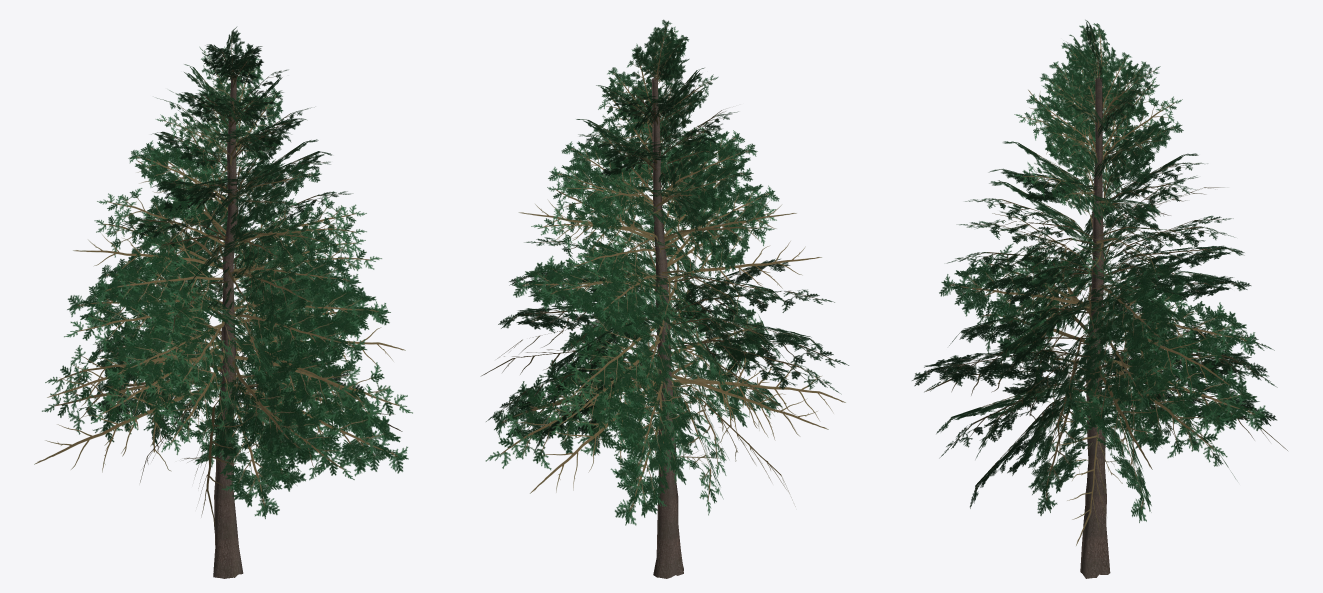
The picture shows the model from 3 angles, left to right: view 1: azimuth 30°, elevation 25°; view 2: azimuth 150°, elevation 25°; view 3: azimuth 270°, elevation 25°; orthographic projection.
Visible parts, largest first — view 1: Pine_Tree_Lowpoly__2_Pine_Branches_06_Mat_0; view 2: Pine_Tree_Lowpoly__2_Pine_Branches_06_Mat_0; view 3: Pine_Tree_Lowpoly__2_Pine_Branches_06_Mat_0.
Boxes of the visible parts, <box> form: Pine_Tree_Lowpoly__2_Pine_Branches_06_Mat_0: <box>34,27,412,578</box>; Pine_Tree_Lowpoly__2_Pine_Branches_06_Mat_0: <box>481,19,848,578</box>; Pine_Tree_Lowpoly__2_Pine_Branches_06_Mat_0: <box>912,20,1287,578</box>.
Size of the model in its own units: 0.1861 by 0.2812 by 0.1896.
Materials: 4 (4 with a texture image).
